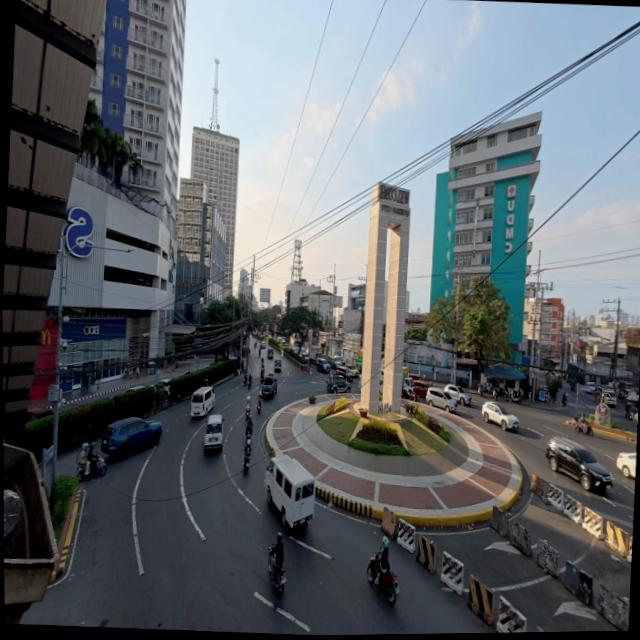car: (545, 437, 612, 490), (100, 417, 161, 458), (481, 402, 518, 431), (444, 385, 471, 406), (615, 453, 635, 478), (26, 407, 52, 422), (410, 380, 428, 401), (153, 379, 170, 398), (336, 366, 352, 382), (343, 364, 358, 378), (327, 356, 342, 369), (316, 358, 329, 372), (123, 385, 144, 393), (406, 373, 422, 383), (273, 359, 281, 372), (632, 412, 639, 426), (586, 382, 595, 392), (301, 352, 308, 363), (267, 348, 273, 359), (260, 341, 265, 349)
motorcycle: (366, 553, 398, 604), (267, 546, 284, 595), (75, 456, 106, 481), (574, 420, 591, 435), (492, 386, 508, 400), (477, 383, 490, 398), (509, 390, 520, 403), (244, 424, 251, 443), (242, 455, 249, 474), (458, 378, 467, 388), (561, 394, 566, 407), (243, 373, 247, 386), (259, 370, 263, 382), (256, 402, 260, 413), (247, 377, 251, 388), (258, 349, 260, 357)
trucks: (261, 373, 276, 397), (400, 376, 413, 398), (309, 348, 324, 364), (401, 377, 411, 398)
vans: (264, 457, 314, 527), (190, 387, 214, 416), (426, 388, 456, 411), (203, 415, 222, 450), (601, 391, 615, 406)
